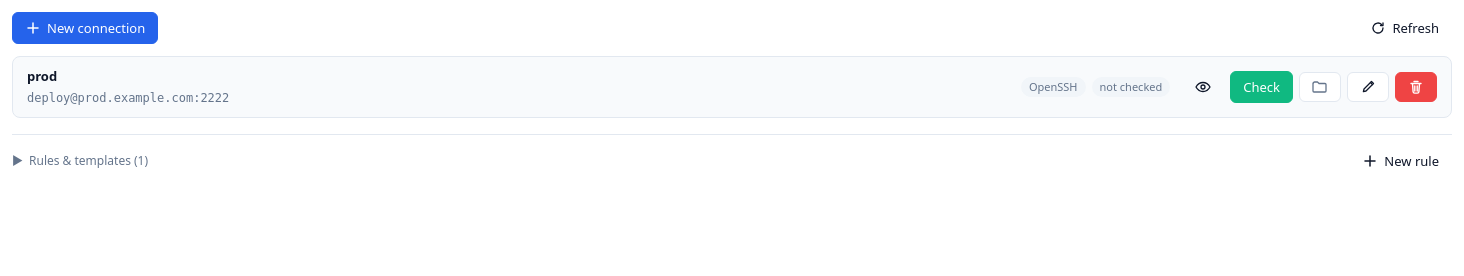
Test: SshConnectionsTab smoke › shows a Rules & templates section when patterns exist, collapsed by default
Expected: the text "*" is not shown
# Expanding reveals the pattern row (read-only, no Check button on it).
Click the button "▶ Rules & templates (1)".
click(80, 160)  # box [12,152,148,169]
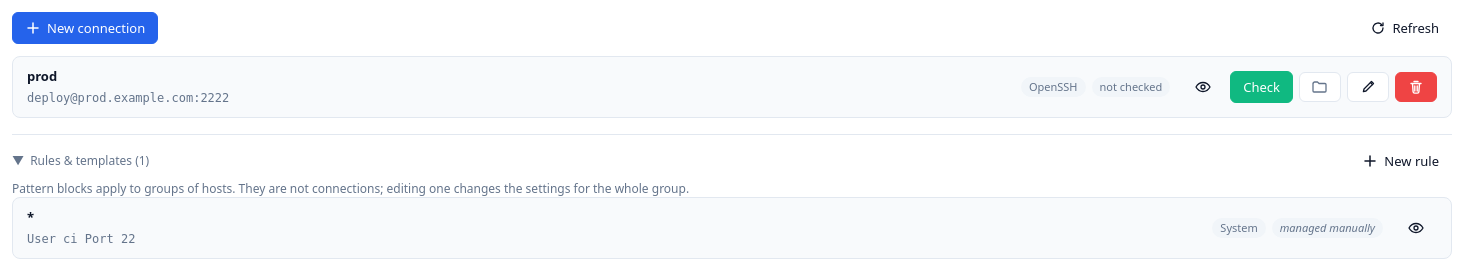
Expected: the text "*" is shown, [27,208,34,226]
